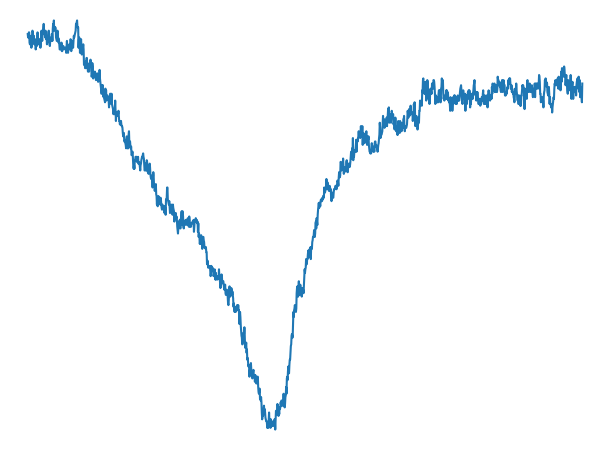decrease: (63, 12, 92, 73)
